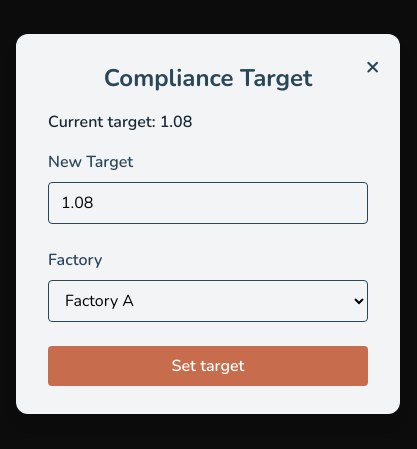
Test: ComplianceTargetModal › shows error message when invalid target is entered
The width and height of the screenshot is (417, 449).
Replace the text in the field with placeholder "kg CO2 per 1 kg of tea" with "abc" at (208, 203), box [48,182,368,224]
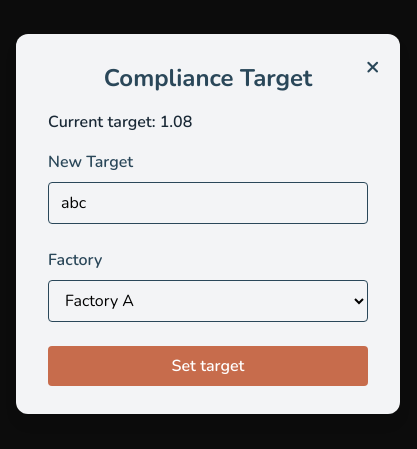
Click the button "Set target".
click(208, 366)  # box [48,346,368,386]
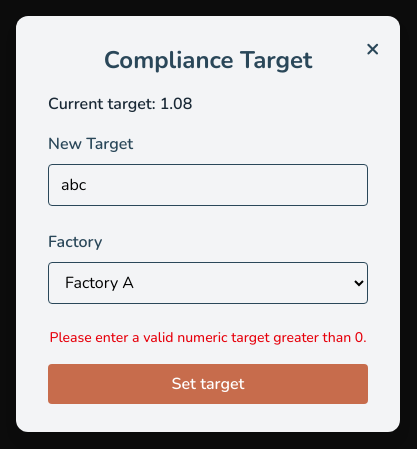
Now the text "Please enter a valid numeric target greater than 0." is shown, box [48,328,368,348]
